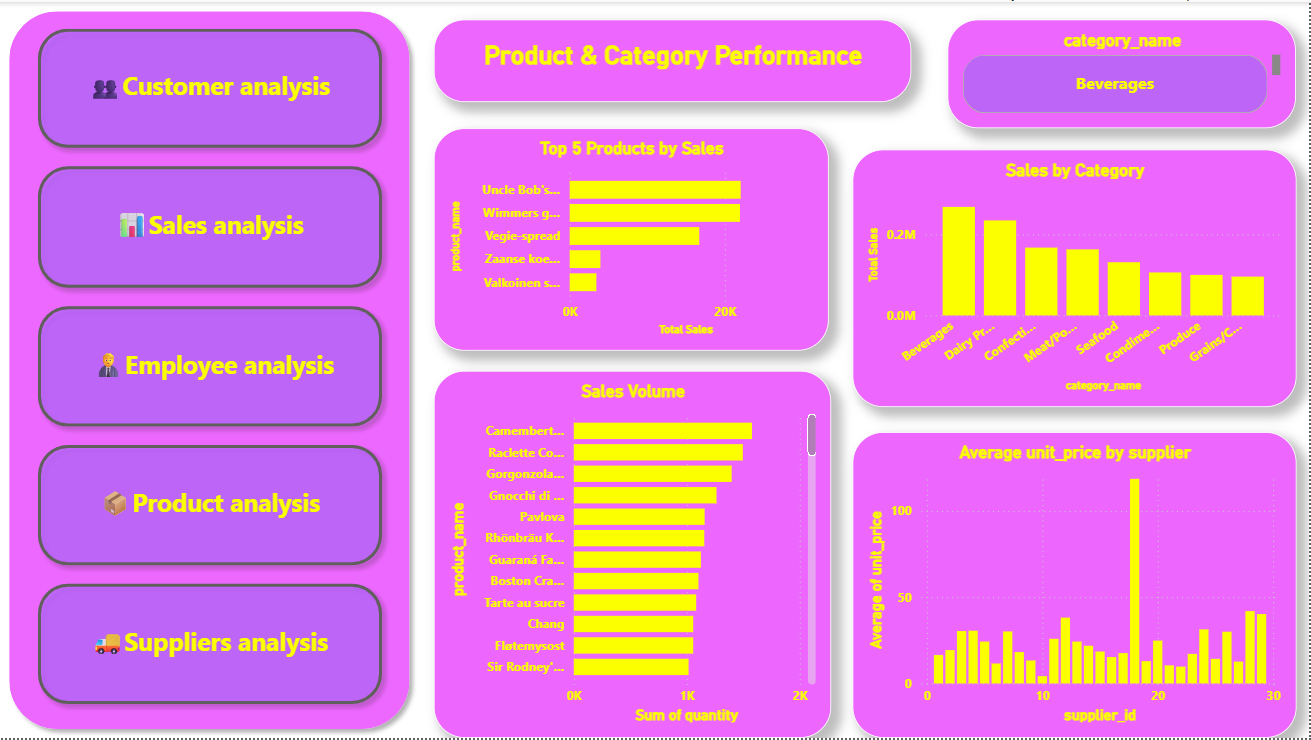

This screenshot's page, from the dashboard's own definition file:
{"tool":"powerbi","page":{"name":"Product analysis","canvas":[1280,720],"ordinal":4},"visuals":[{"type":"shape","box":[0,0,409.6,720.2],"z":0},{"type":"actionButton","box":[28.1,151.6,354.6,137],"z":1000},{"type":"actionButton","box":[28.1,288.6,354.6,135.7],"z":2000},{"type":"actionButton","box":[28.1,560.1,354.6,135.7],"z":3000},{"type":"actionButton","box":[28.1,424.3,354.6,135.7],"z":4000},{"type":"actionButton","box":[28.1,17.1,354.6,134.5],"z":5000},{"type":"textbox","box":[75.8,45.2,258,78.3],"z":6000},{"type":"textbox","box":[75.8,181,258,78.3],"z":7000},{"type":"textbox","box":[75.8,317.9,258,78.3],"z":8000},{"type":"textbox","box":[75.8,453.7,258,78.3],"z":9000},{"type":"textbox","box":[75.8,589.4,258,78.3],"z":10000},{"type":"textbox","title":"Product & Category Performance","box":[424.3,17.1,467.1,80.7],"z":11000},{"type":"barChart","title":"Top 5 Products by Sales","fields":{"Category":["products.product_name"],"Y":["sales_Measures.Total Sales"]},"box":[424.3,123.5,386.4,217.7],"z":12000},{"type":"columnChart","title":"Sales by Category","fields":{"Category":["categories.category_name"],"Y":["sales_Measures.Total Sales"]},"box":[834,144.3,434.1,251.9],"z":13000},{"type":"barChart","title":"Sales Volume","fields":{"Category":["products.product_name"],"Y":["Sum(order_details.quantity)"]},"box":[424.3,360.7,388.9,359.5],"z":14000},{"type":"columnChart","title":"Average unit_price by supplier","fields":{"Category":["products.supplier_id"],"Y":["Avg(order_details.unit_price)"]},"box":[834,420.7,434.1,299.6],"z":15000},{"type":"advancedSlicerVisual","fields":{"Values":["categories.category_name"]},"box":[926.9,17.1,341.2,106.4],"z":16000}]}

Visuals, with their boxes in screenshot pixels (x1, y1, x2, y2), scaled from the page's 1280x720 canvas onto the 1311x740 screenshot:
shape: box(0, 0, 420, 739)
actionButton: box(29, 156, 392, 297)
actionButton: box(29, 297, 392, 436)
actionButton: box(29, 576, 392, 715)
actionButton: box(29, 436, 392, 576)
actionButton: box(29, 18, 392, 156)
textbox: box(78, 46, 342, 127)
textbox: box(78, 186, 342, 267)
textbox: box(78, 327, 342, 407)
textbox: box(78, 466, 342, 547)
textbox: box(78, 606, 342, 686)
"Product & Category Performance" textbox: box(435, 18, 913, 101)
"Top 5 Products by Sales" barChart: box(435, 127, 830, 351)
"Sales by Category" columnChart: box(854, 148, 1299, 407)
"Sales Volume" barChart: box(435, 371, 833, 739)
"Average unit_price by supplier" columnChart: box(854, 432, 1299, 739)
advancedSlicerVisual - categories.category_name: box(949, 18, 1299, 127)
